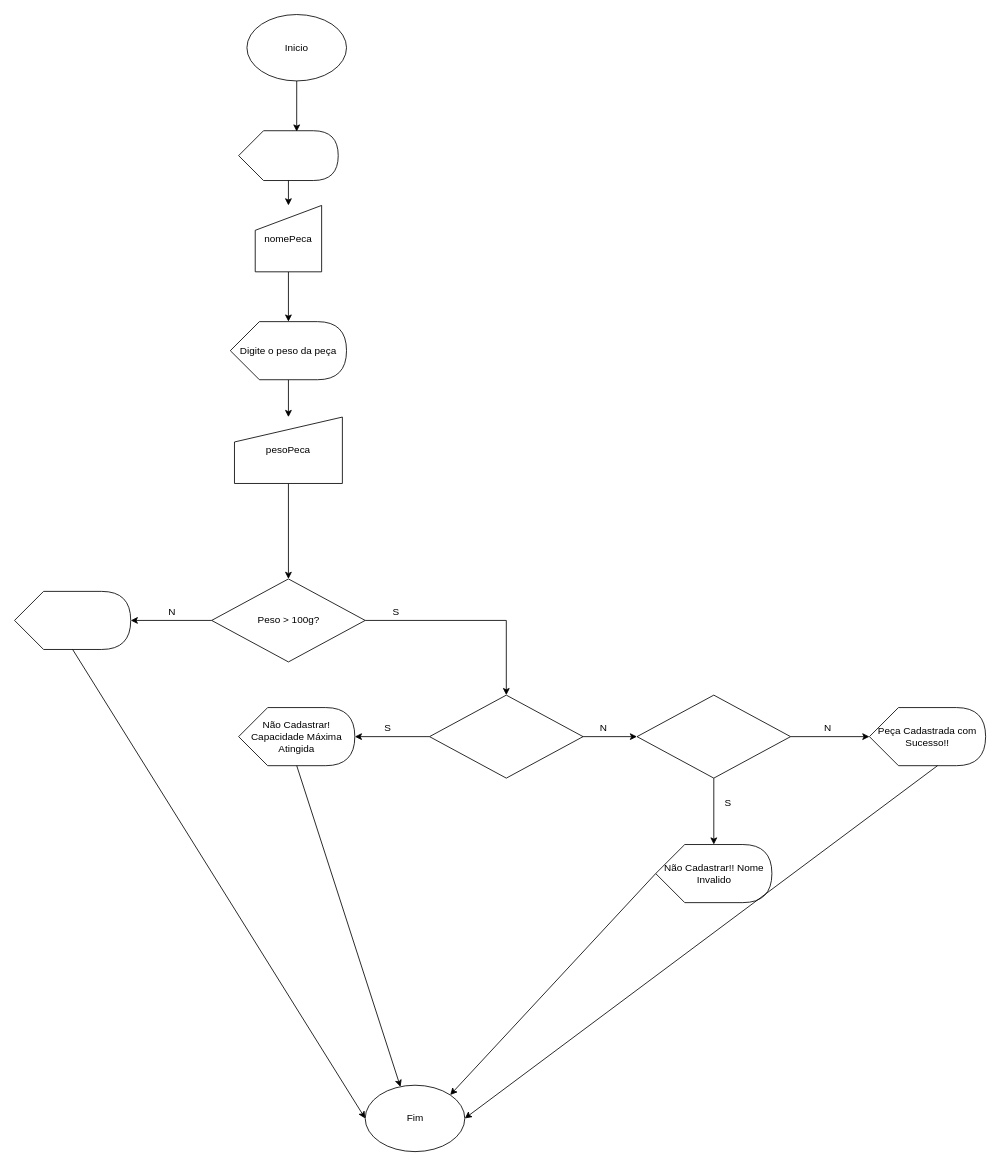
Image size: 1000x1166. Some labels were removed from this diagram. Here are the shapes that lost their labels. From the top down, the centre of each, then its label:
At (288,155): "Digite o nome da peça".
At (72,620): "Não Castrar! Peso insuficiente".
At (506,736): "Capacidade > 10?".
At (713,736): "nomePeca < 3?".
